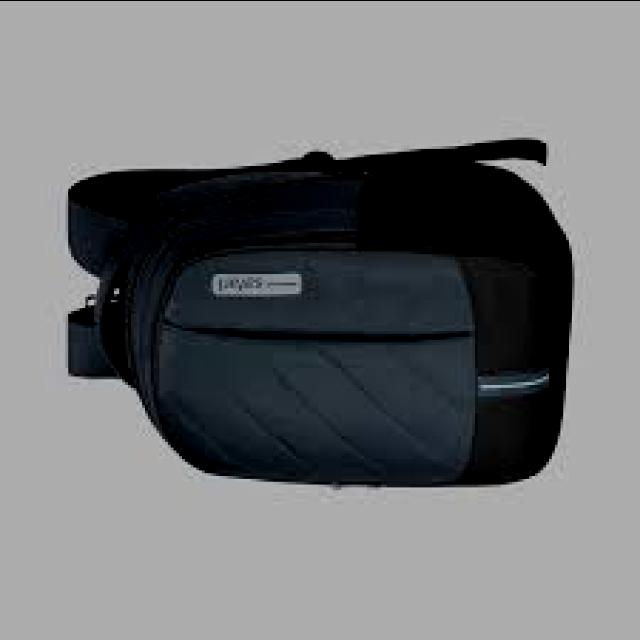backpack: (64, 141, 573, 491)
